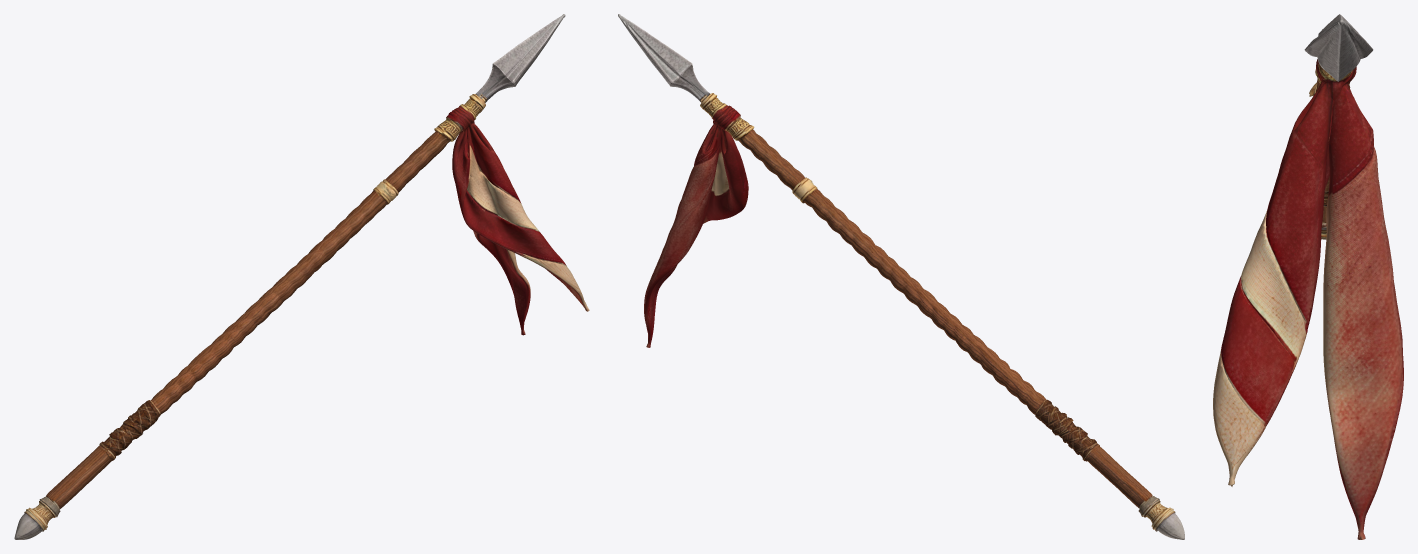
Rendered from Süvari kargısı.glb.
The picture shows the model from 3 angles, left to right: view 1: azimuth 30°, elevation 25°; view 2: azimuth 150°, elevation 25°; view 3: azimuth 270°, elevation 25°; orthographic projection. The views are drawn at different scales.
Visible parts, largest first — view 1: tripo_node_ad0edbbc-f015-4d03-9469-8ea74773f03e; view 2: tripo_node_ad0edbbc-f015-4d03-9469-8ea74773f03e; view 3: tripo_node_ad0edbbc-f015-4d03-9469-8ea74773f03e.
Part boxes in pixels (<box>): tripo_node_ad0edbbc-f015-4d03-9469-8ea74773f03e: <box>14,14,589,539</box>; tripo_node_ad0edbbc-f015-4d03-9469-8ea74773f03e: <box>618,14,1184,539</box>; tripo_node_ad0edbbc-f015-4d03-9469-8ea74773f03e: <box>1213,14,1403,539</box>.
Bounding box in the file's own units: 0.9813 × 0.6563 × 0.1684.
Materials: 1 (1 with a texture image).
